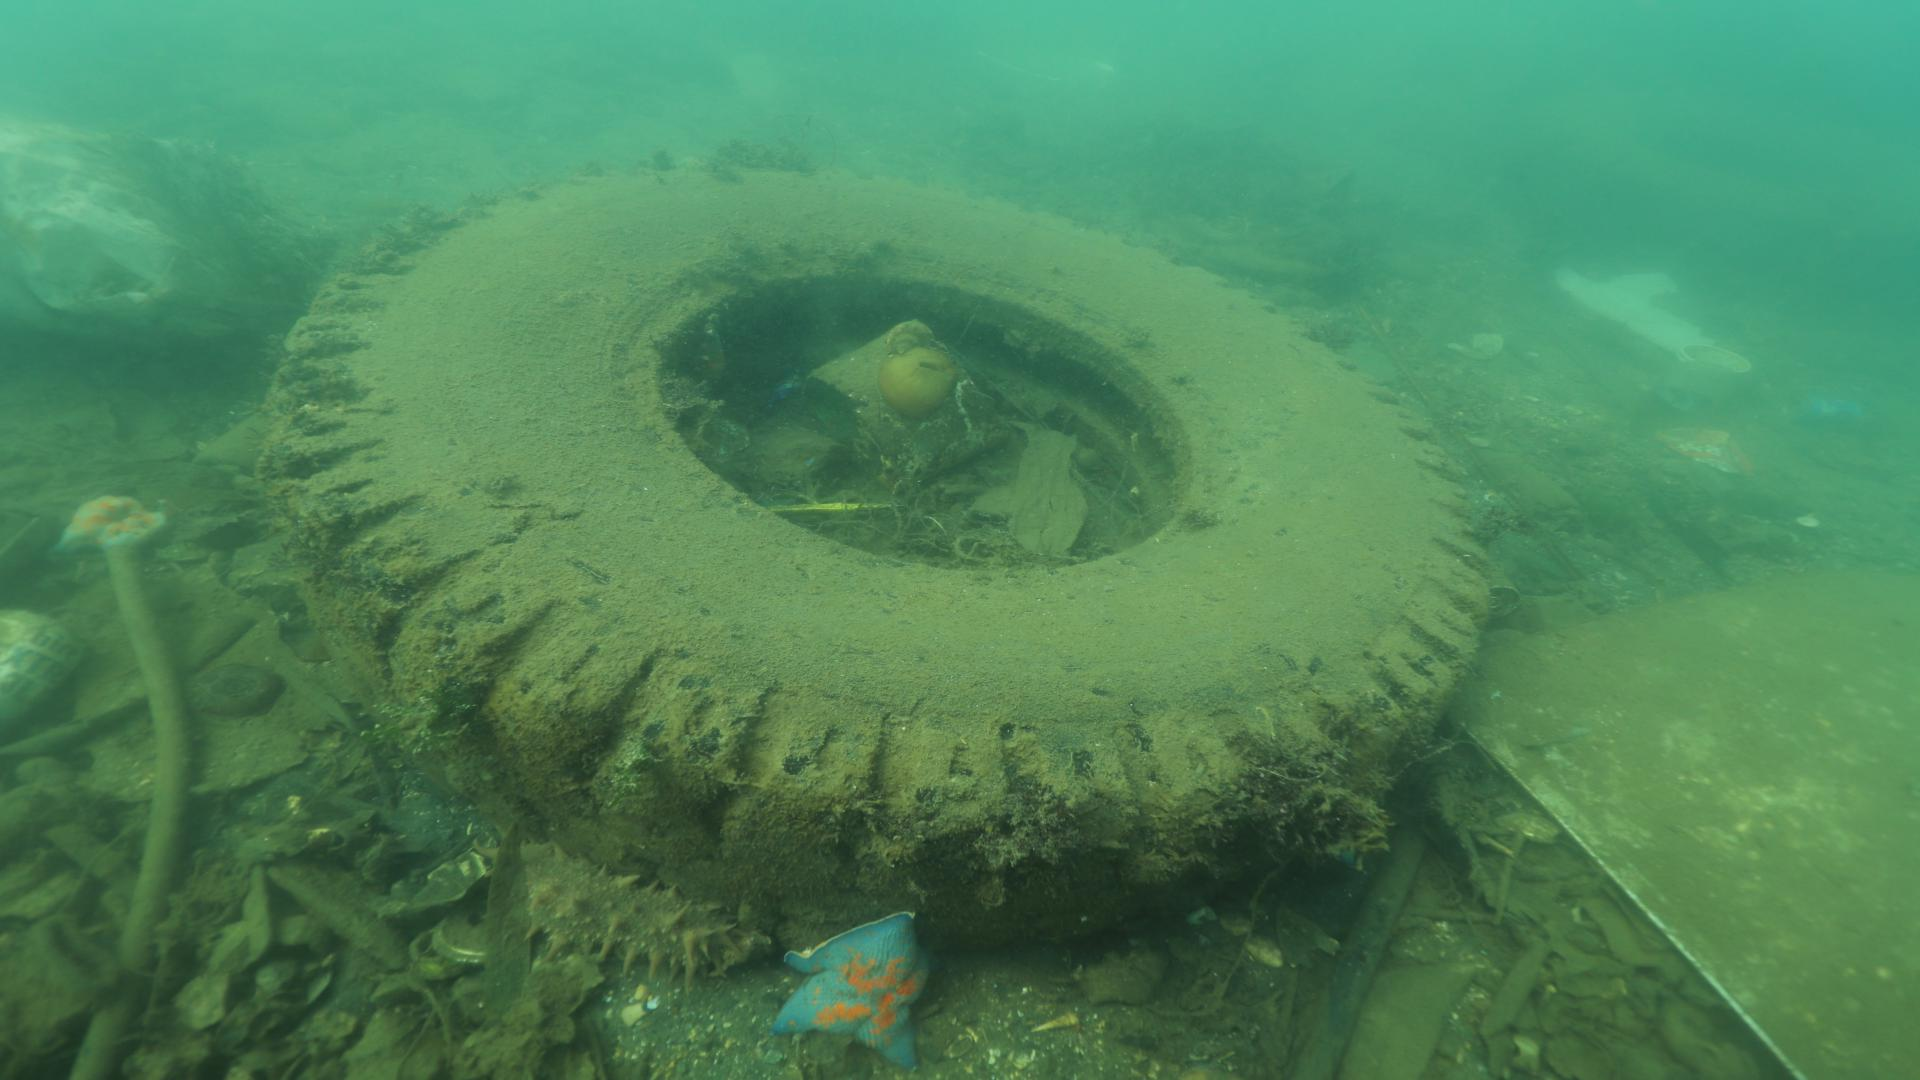tire: (268, 160, 1493, 963)
